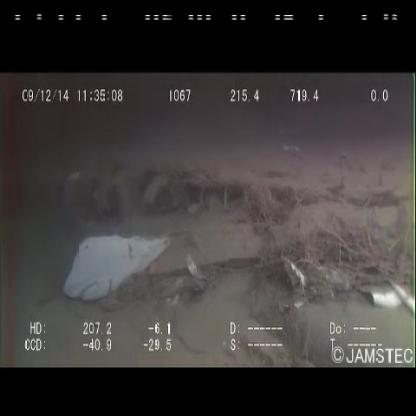Rác: (279, 252, 329, 311), (354, 270, 416, 314), (184, 250, 208, 288)
